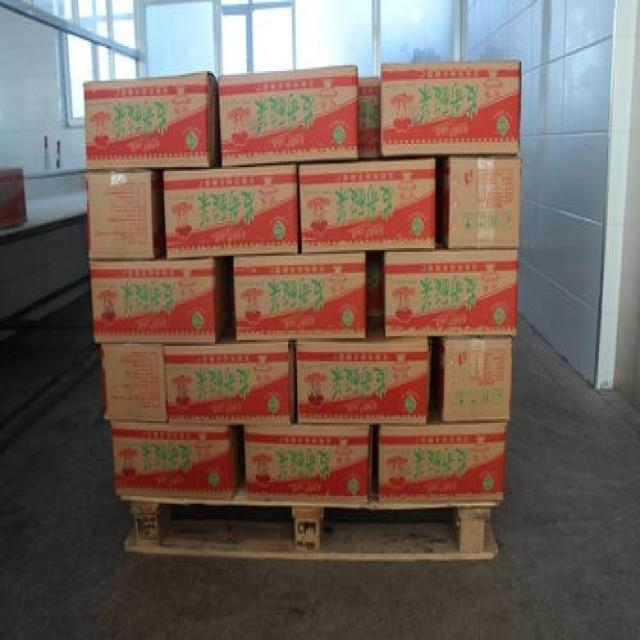box: (294, 319, 430, 425), (164, 315, 294, 425), (218, 67, 358, 165), (381, 63, 522, 160), (298, 158, 440, 254), (372, 404, 508, 504), (84, 71, 219, 169), (88, 254, 233, 344), (233, 250, 366, 344), (165, 165, 297, 256), (385, 250, 518, 336), (241, 425, 372, 504), (111, 421, 242, 498), (440, 156, 522, 250), (87, 167, 166, 258), (431, 336, 512, 421), (97, 344, 168, 423), (358, 77, 383, 161), (367, 250, 387, 317)
